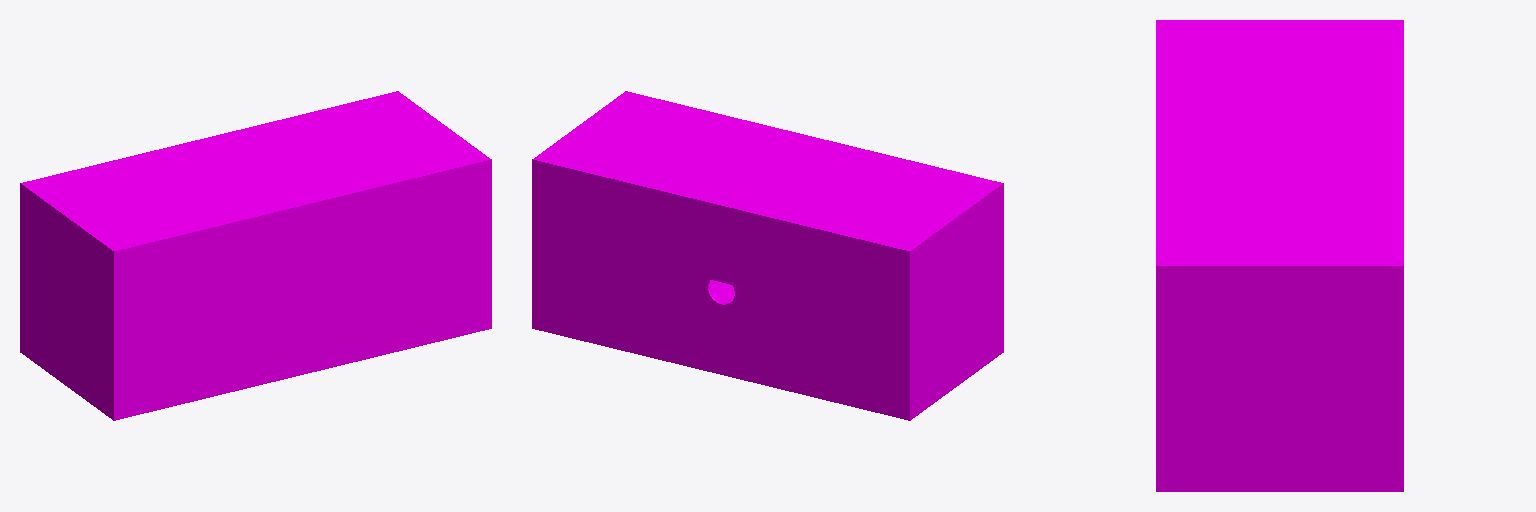
robot.urdf — hollow_box:
<?xml version="1.0" ?>
<robot name="hollow_box">

<material name="silver_default">
  <color rgba="0.700 0.700 0.700 1.000"/>
</material>
<material name="phenolic_amber">
  <color rgba="1.0 0 1.8 0.5"/>
</material>

<link name="base_link">
  <inertial>
    <origin xyz="0.3499999999999989 0.1497081184058309 -0.15000000000000047" rpy="0 0 0"/>
    <mass value="6.846431881681406"/>
    <inertia ixx="0.181348" iyy="0.463693" izz="0.4634" ixy="-0.0" iyz="-0.0" ixz="-0.0"/>
  </inertial>
  <visual>
    <origin xyz="0 0 0" rpy="0 0 0"/>
    <geometry>
      <mesh filename="obstacles/hollow_box_description/meshes/base_link.stl" scale="0.001 0.001 0.001"/>
    </geometry>
    <material name="phenolic_amber"/>
  </visual>
  <collision>
    <origin xyz="0 0 0" rpy="0 0 0"/>
    <geometry>
      <mesh filename="obstacles/hollow_box_description/meshes/base_link.stl" scale="0.001 0.001 0.001"/>
    </geometry>
  </collision>
</link>

</robot>

--- Render facts (derived) ---
3 views of the same robot in one strip: view 1: azimuth 30°, elevation 25°; view 2: azimuth 150°, elevation 25°; view 3: azimuth 270°, elevation 25° (orthographic).
Model hollow_box with 1 links and 0 joints (none), rooted at base_link, posed all joints at 0.
Links seen in each view (by area): view 1: base_link; view 2: base_link; view 3: base_link.
Boxes of the visible links, x1,y1,x2,y2 form: base_link: (20, 91, 491, 420); base_link: (532, 91, 1003, 420); base_link: (1156, 20, 1403, 491).
Size in the robot's own frame: 0.7 by 0.3 by 0.3 metres.
1 mesh visuals loaded from 1 distinct referenced files (1 binary STL).